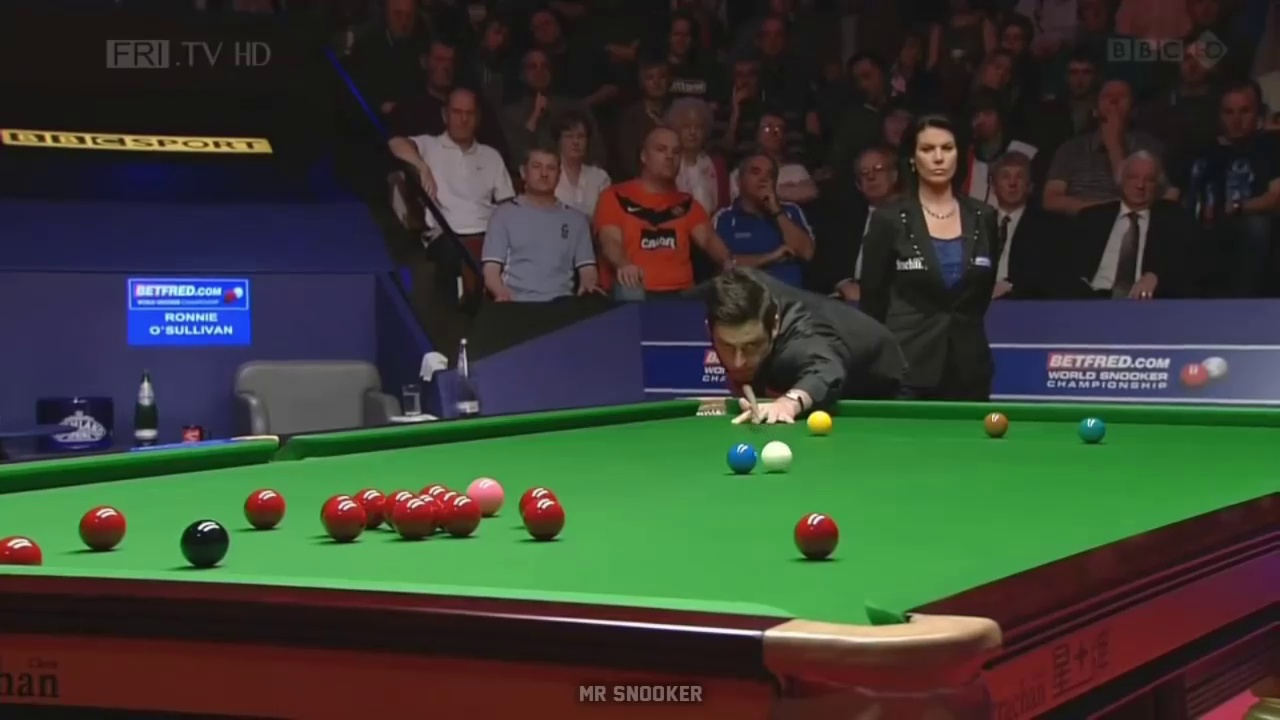black: (180, 522, 229, 567)
blue: (727, 441, 755, 474)
brown: (982, 410, 1009, 436)
green: (1080, 417, 1104, 443)
pink: (466, 477, 505, 504)
red: (79, 504, 130, 549), (793, 514, 840, 560), (324, 498, 366, 544), (521, 498, 566, 537), (393, 499, 433, 542), (439, 495, 479, 538), (244, 491, 287, 530)
white: (762, 440, 792, 473)
yellow: (802, 410, 834, 434)
